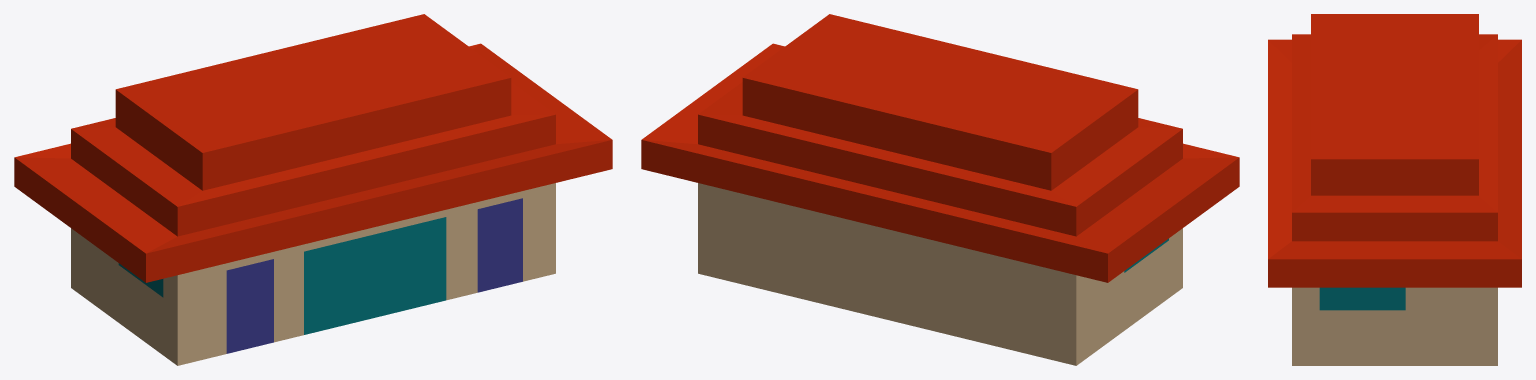
Rendered from SuperMercado.fbx.
The picture shows the model from 3 angles, left to right: view 1: azimuth 30°, elevation 25°; view 2: azimuth 150°, elevation 25°; view 3: azimuth 270°, elevation 25°; orthographic projection. The views are drawn at different scales.
Visible parts, largest first — view 1: SuperMercado; view 2: SuperMercado; view 3: SuperMercado.
Boxes of the visible parts, x1,y1,x2,y2 form: SuperMercado: (14,14,612,365); SuperMercado: (641,14,1239,365); SuperMercado: (1268,14,1521,365).
Bounding box in the file's own units: 55.29 × 22.33 × 27.
